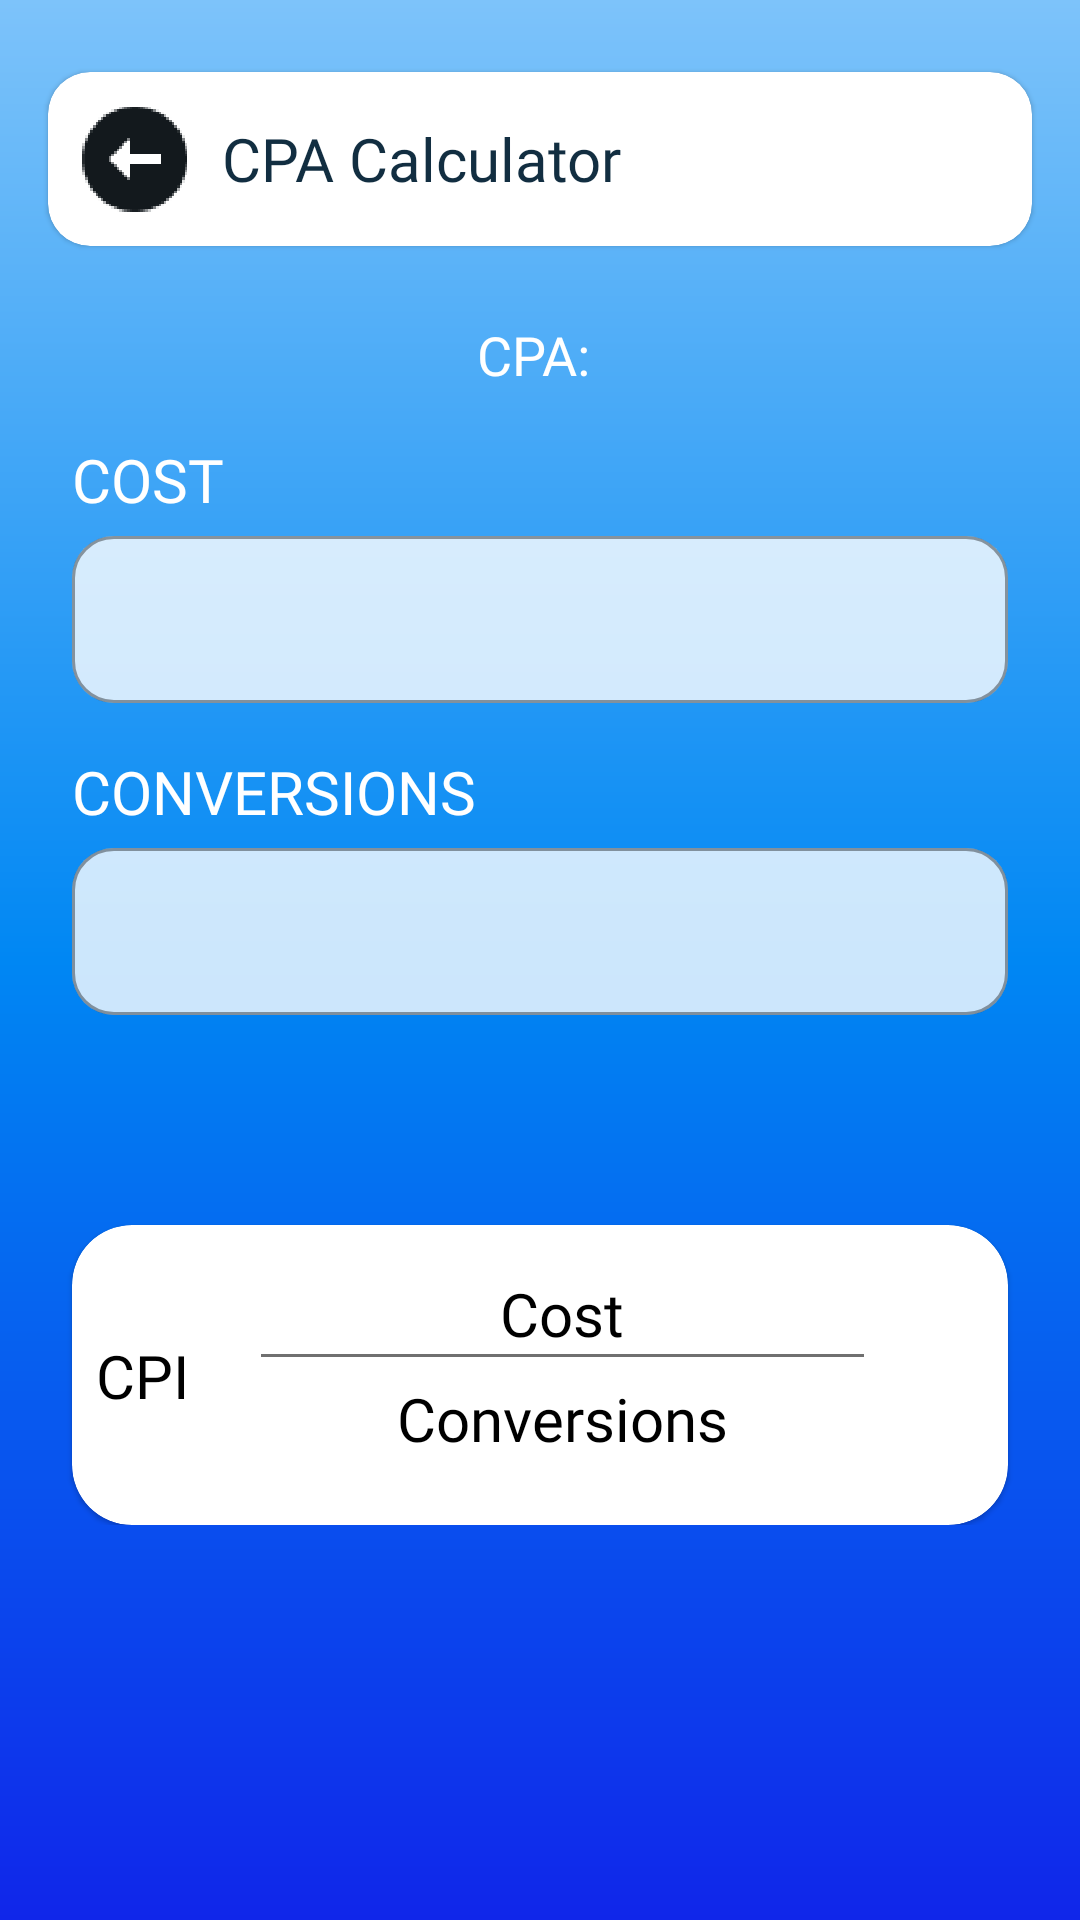

Named icons in this screenshot (1080*1920) and their centers, (x=x, y=y):
scroll back: (x=134, y=159)
